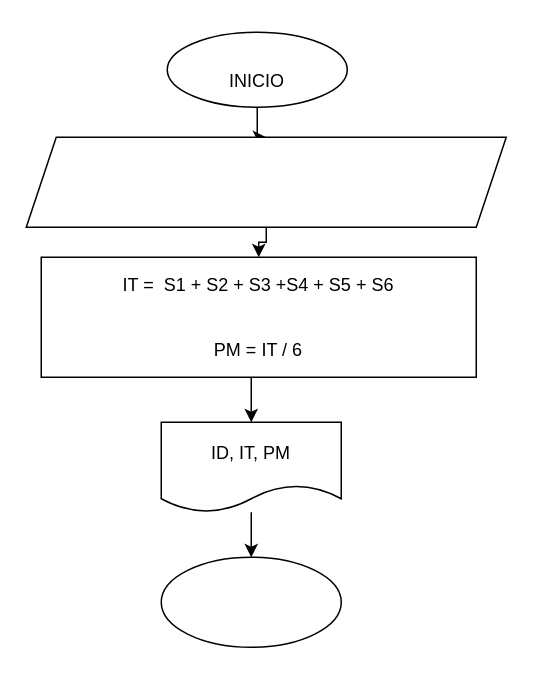
The diagram is 533 pixels wide and 674 high, and some of its shapes have lost their labels. Here are the shapes that lost their labels. From the top down, the centre of each, then its label:
(265,181): ID, S1, S2, S3, S4, S5, S6
(250,601): FIN
